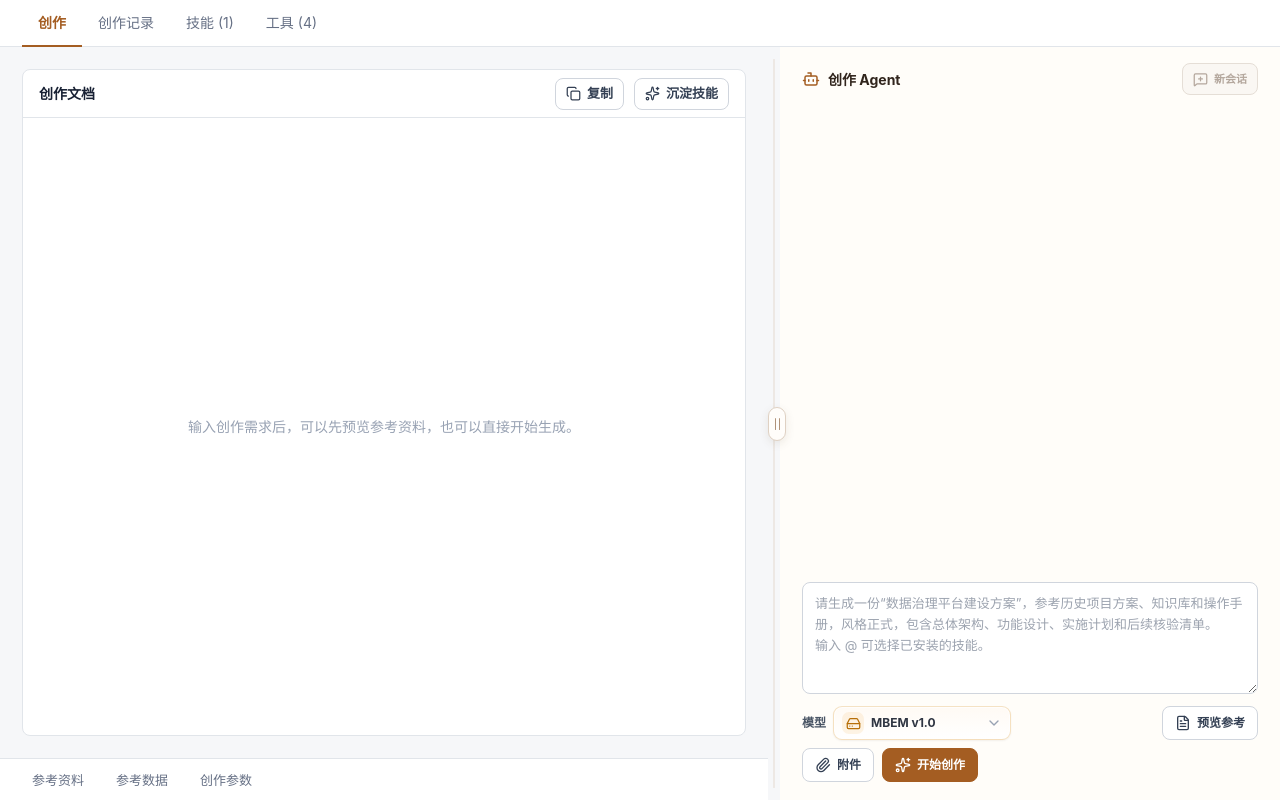
it: 技能安装与使用 › 已发布 Skill 显示取消发布并同步本地状态
Click the button "技能 (1)". click: click(210, 24)
box: top-left (170, 0), bottom-right (250, 47)
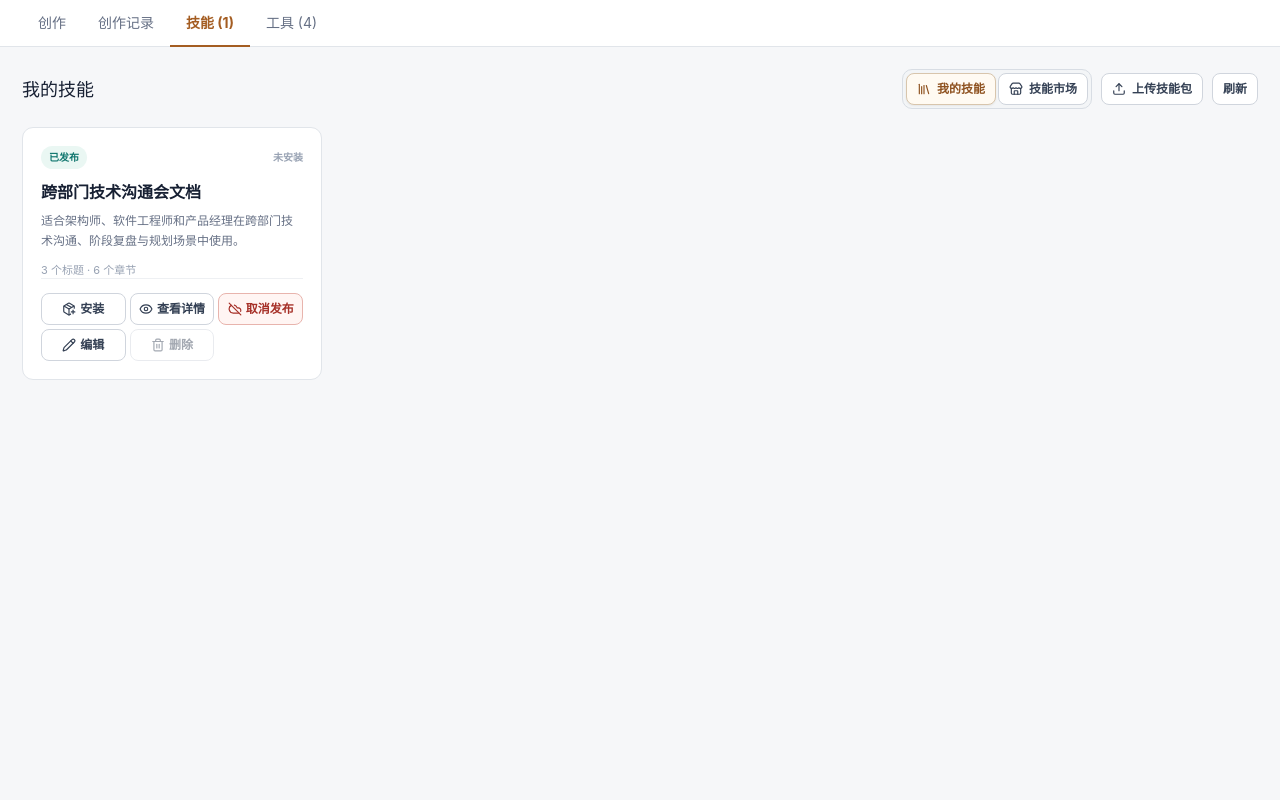
Click the button "取消发布". click: click(261, 309)
box: top-left (218, 293), bottom-right (303, 325)
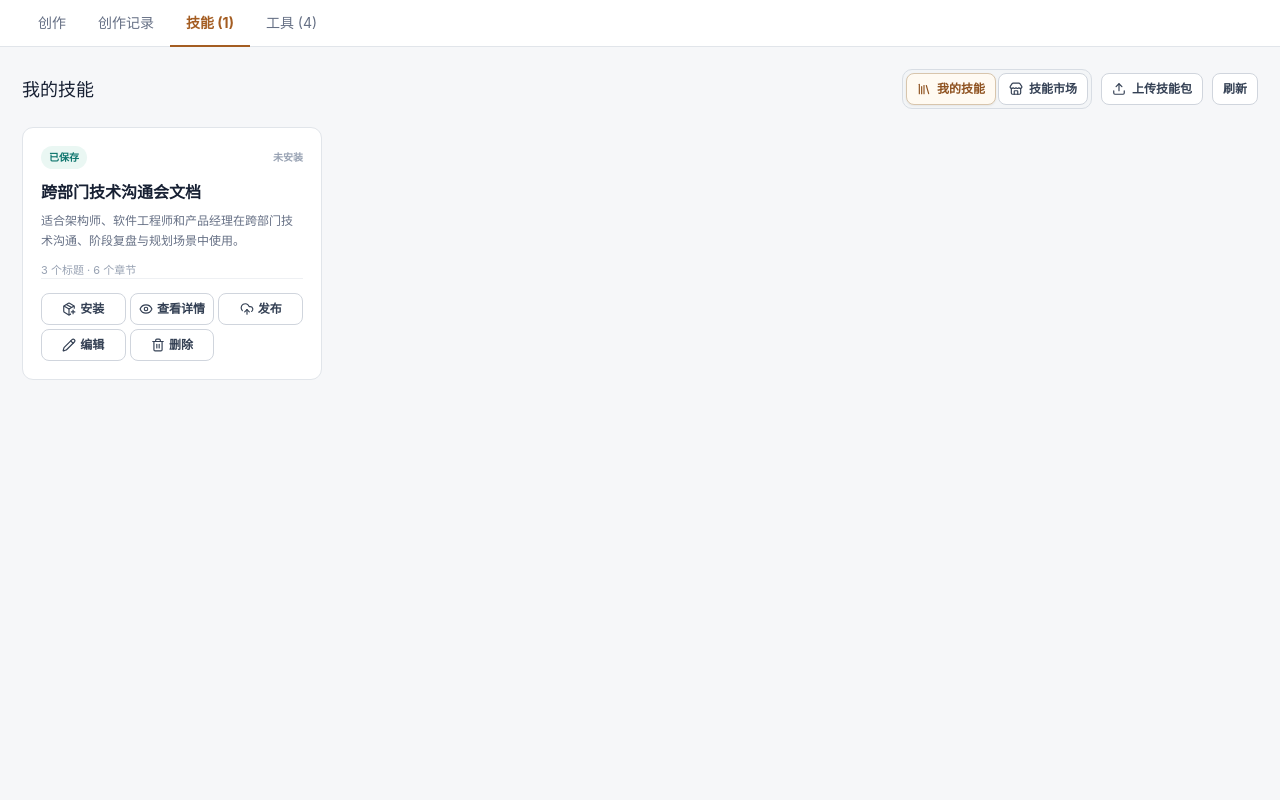
expect the text "已保存" is shown: met, box top-left (41, 146), bottom-right (87, 169)
